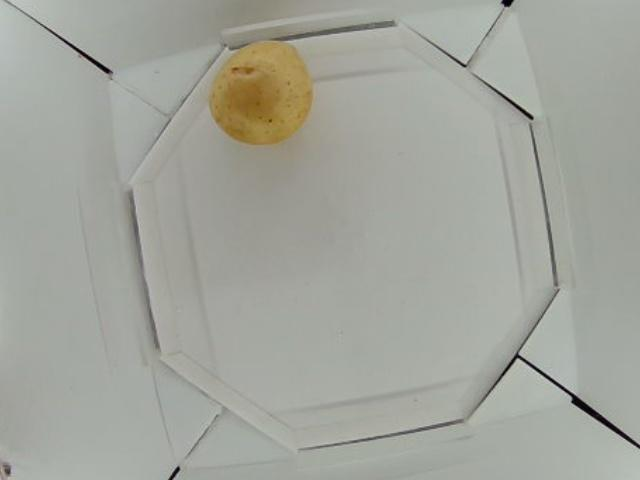Potato: (209, 42, 310, 148)
